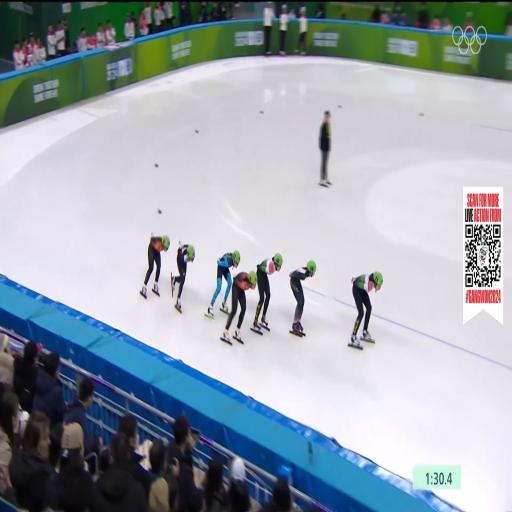Skater: (221, 271, 257, 344), (349, 272, 382, 349), (252, 253, 282, 333), (206, 251, 240, 319), (290, 261, 316, 336), (140, 234, 169, 298), (171, 241, 195, 312)
